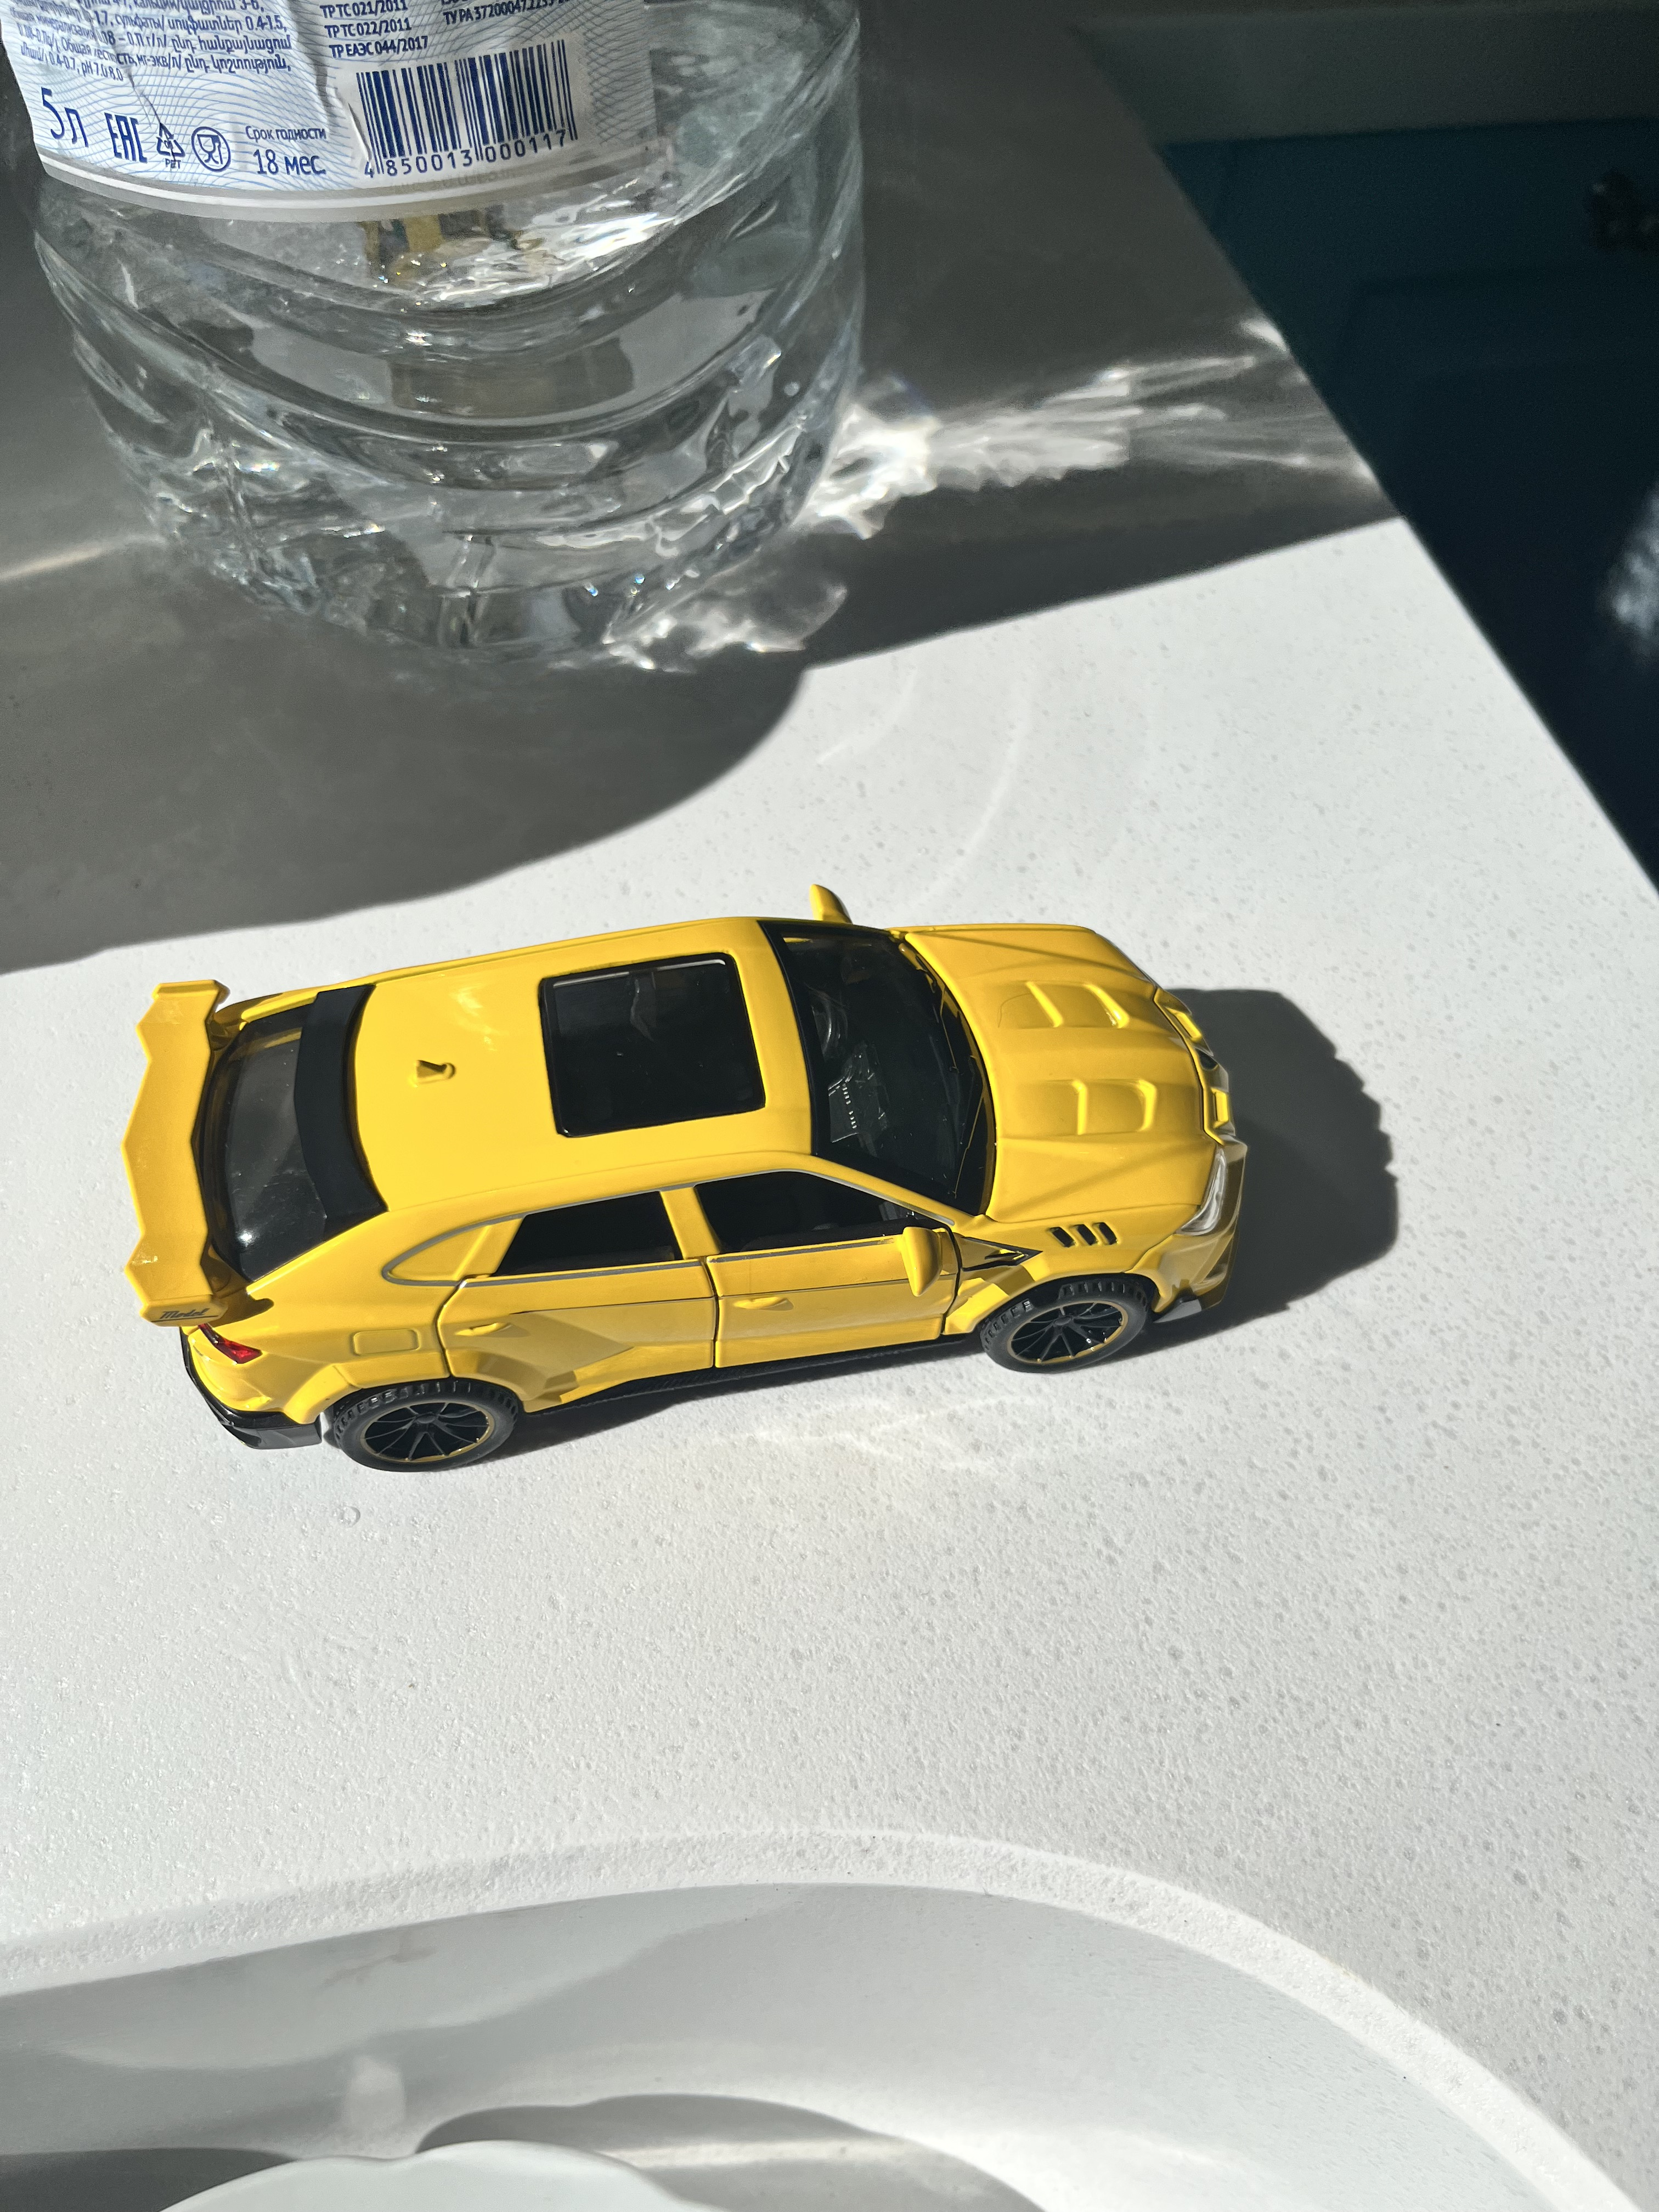lambo: (113, 878, 1279, 1458)
